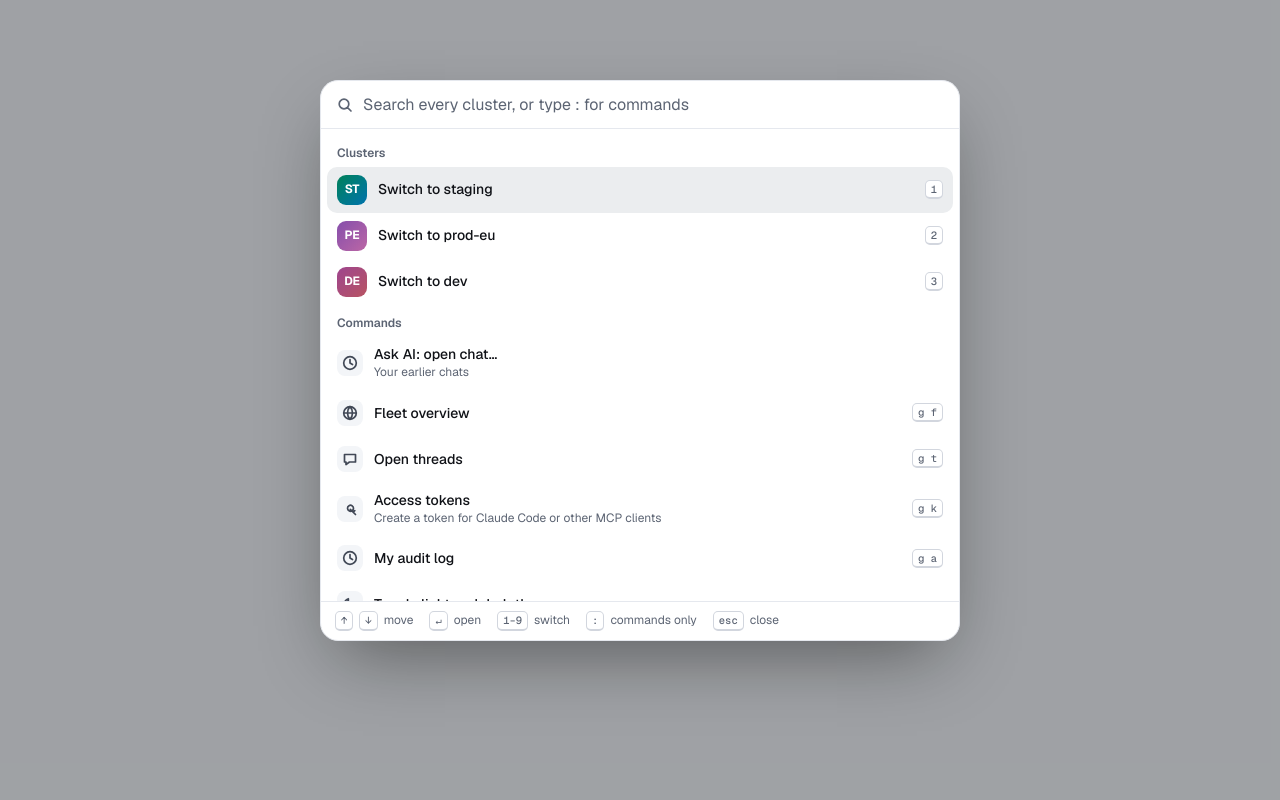
Test: CommandPalette fleet search › falls back to ranking every snapshot on a hub without /search
Type "payments" into the dropdown labelled "Search". click: (653, 105)
box: x1=363 y1=93 x2=943 y2=116
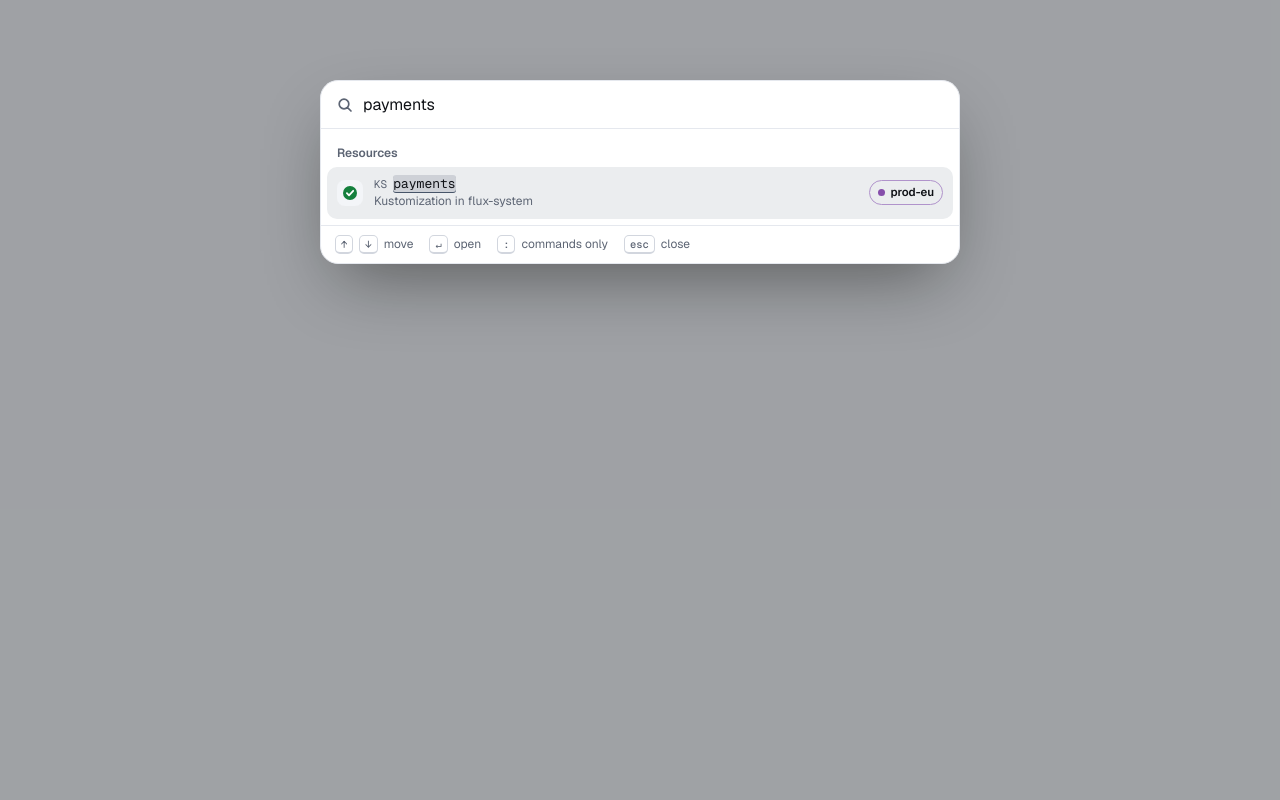
Now the option shows "payments", box x1=327 y1=167 x2=953 y2=219
